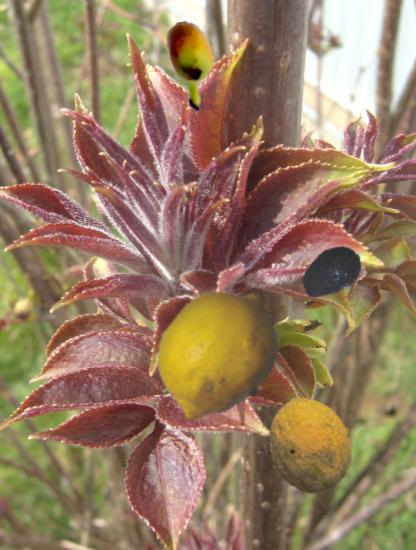Avocado: (298, 239, 366, 307)
Banana: (148, 21, 239, 112)
Cantaloupe: (261, 395, 361, 495)
Lemon: (146, 281, 291, 426)
